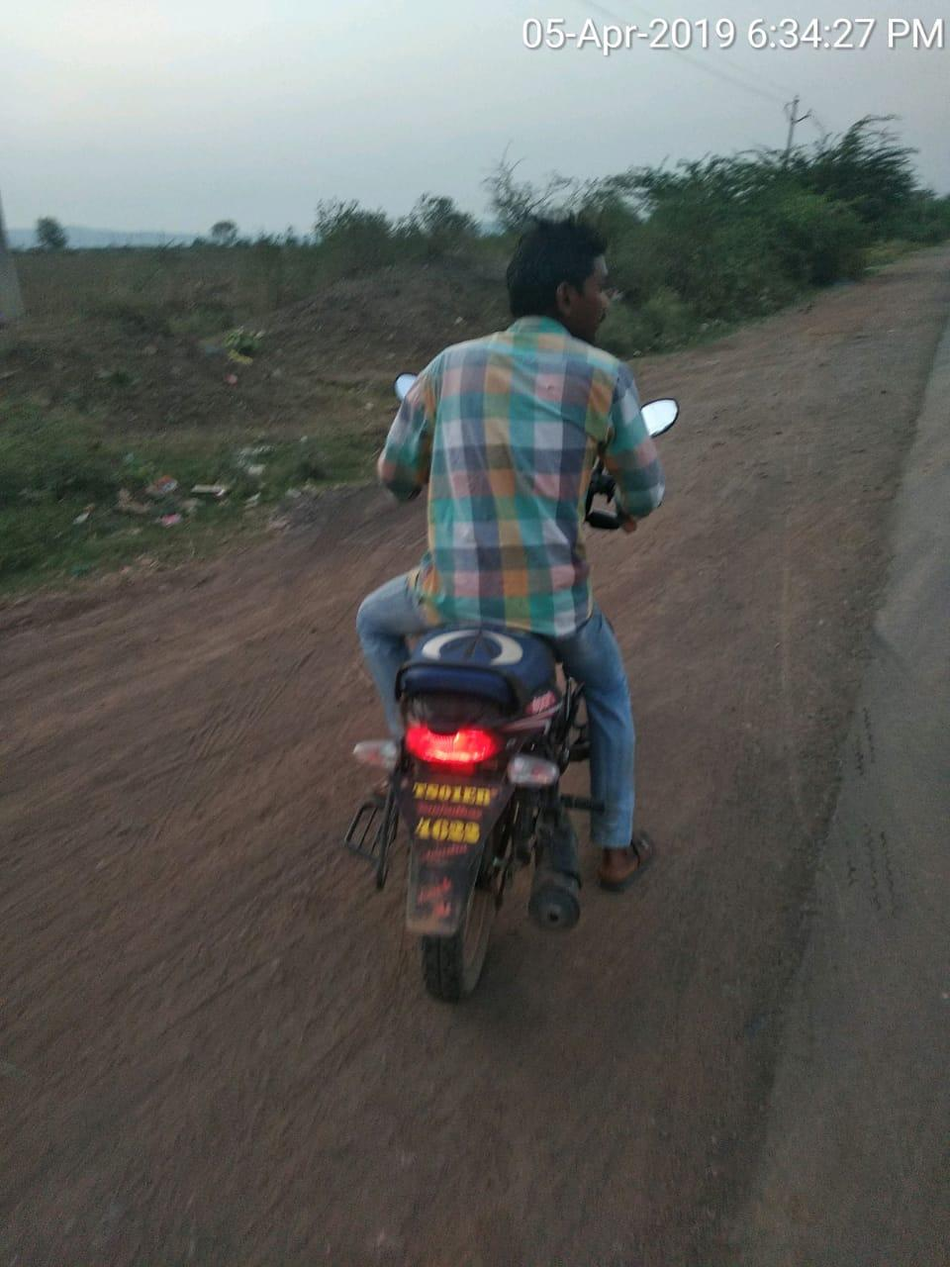without_helmet: (278, 169, 751, 1006)
